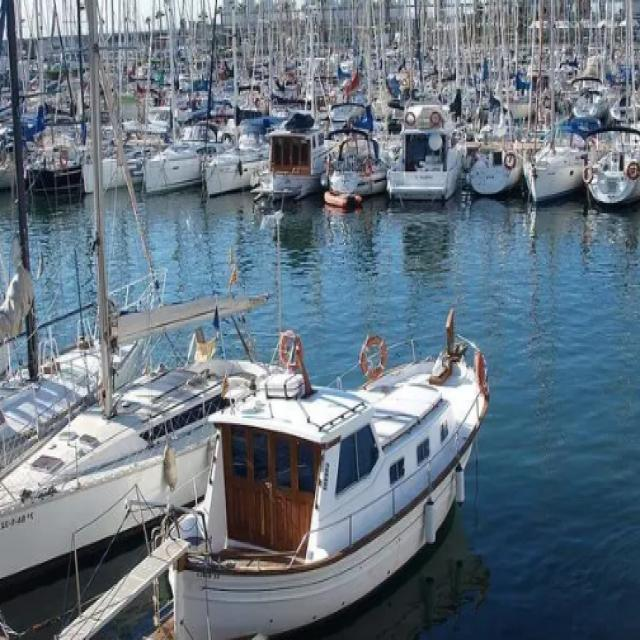houseboat: (131, 259, 496, 640), (0, 285, 295, 605)
